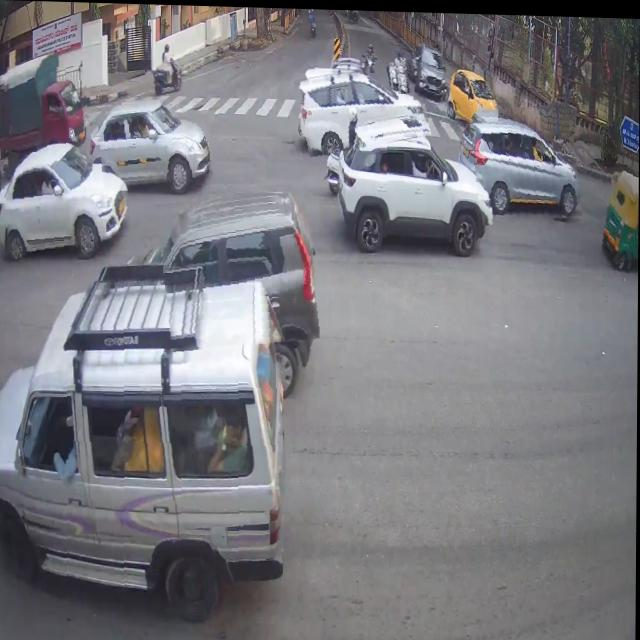Car: (22, 277, 285, 607), (159, 190, 317, 351), (344, 132, 488, 244), (3, 155, 132, 258), (472, 100, 580, 222), (298, 59, 429, 152), (99, 109, 213, 191), (446, 67, 498, 122), (415, 36, 449, 101)
LCV: (4, 64, 88, 153)
Three-wheeler: (603, 160, 639, 268)
Two-wheelers: (156, 43, 187, 91), (394, 46, 410, 92), (300, 7, 322, 38), (365, 44, 378, 71)
